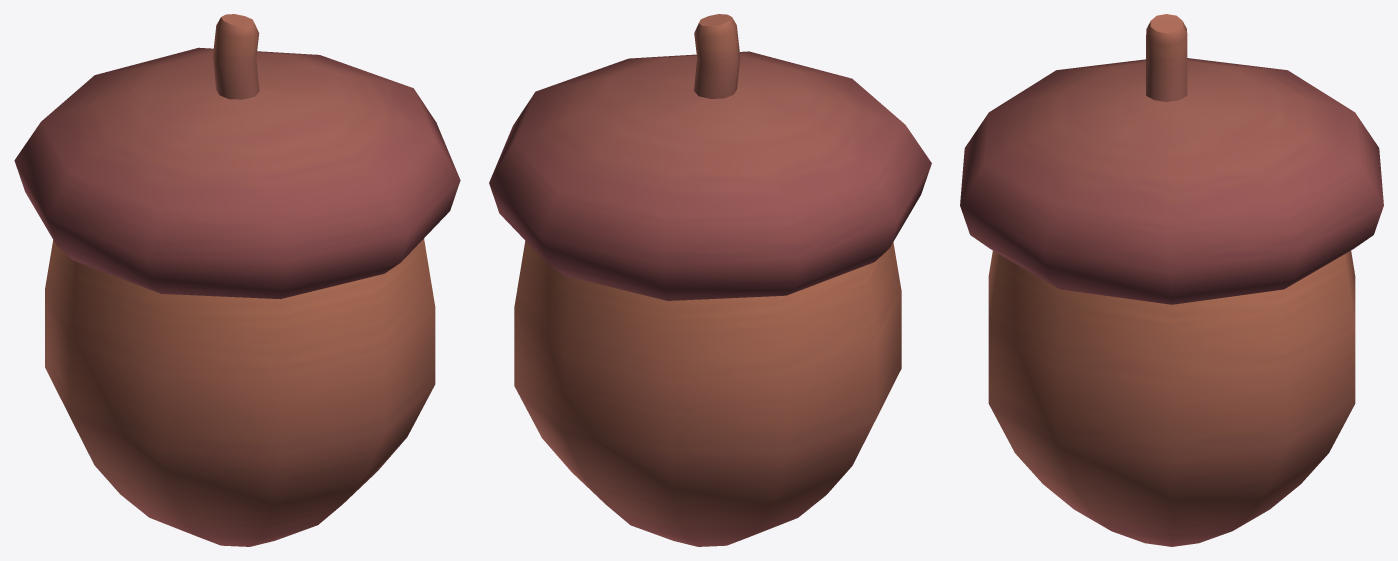
Rendered from Acorn.fbx.
3 renders of one model, left to right at view 1: azimuth 30°, elevation 25°; view 2: azimuth 150°, elevation 25°; view 3: azimuth 270°, elevation 25°, orthographic.
Parts seen in each view (by area): view 1: Acorn; view 2: Acorn; view 3: Acorn.
Part boxes in pixels (x1,y1,x2,y2): Acorn: (14,14,460,546); Acorn: (489,14,931,546); Acorn: (960,14,1383,546).
Bounding box in the file's own units: 14.94 × 18.86 × 14.37.
